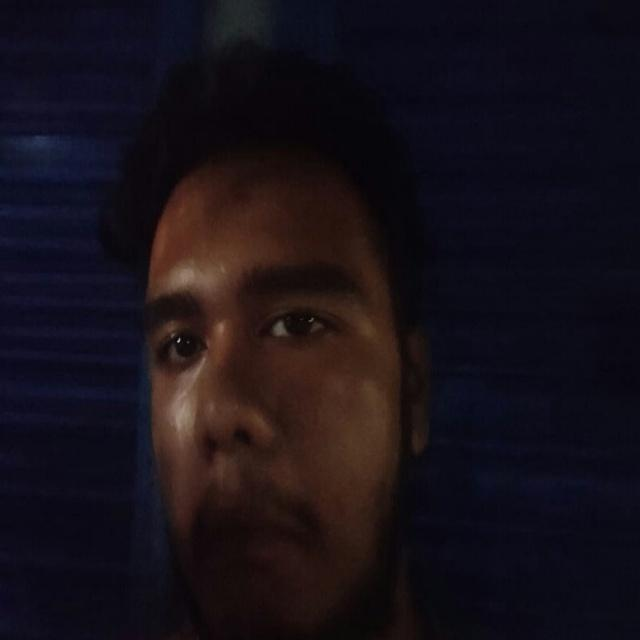Sad: (125, 156, 411, 640)
